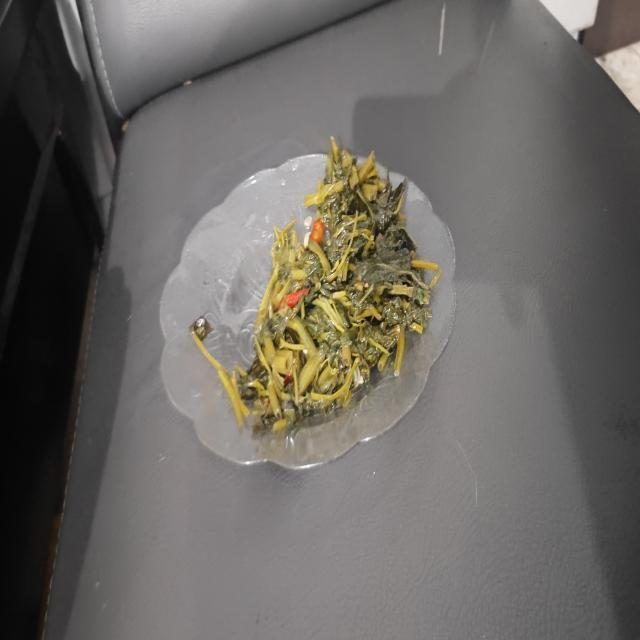tumis_kangkung: (238, 155, 440, 434)
